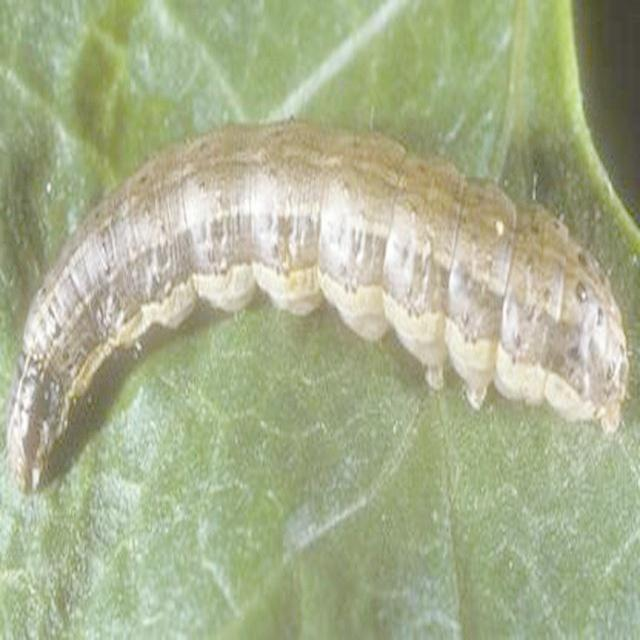gusano_cogollero: (10, 119, 628, 494)
